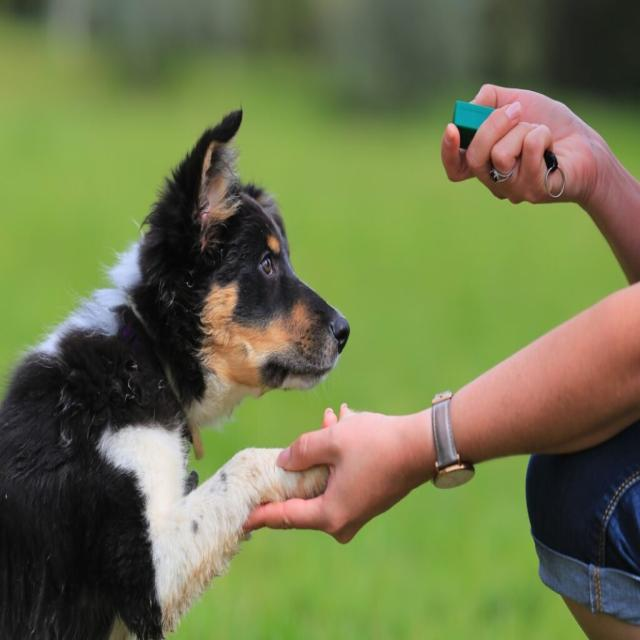BORDER_COLLIE: (0, 74, 378, 640)
